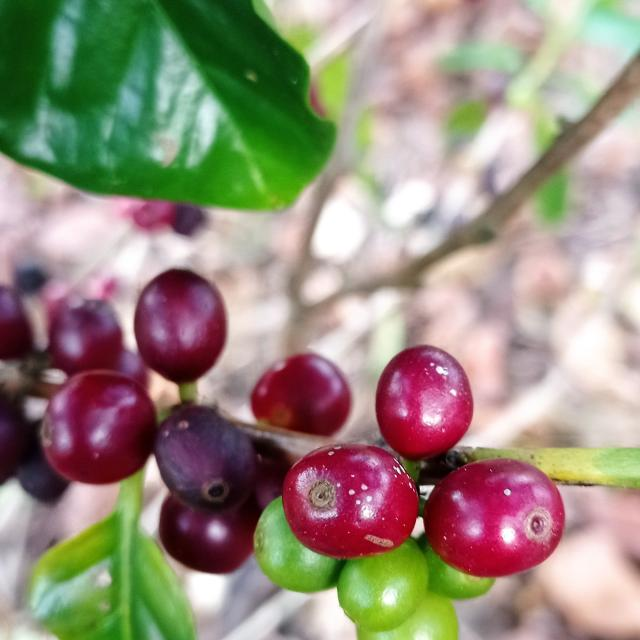green: (254, 497, 345, 594), (337, 539, 429, 633), (417, 535, 496, 601), (357, 593, 459, 640)
red: (425, 459, 565, 579), (282, 445, 418, 560), (41, 370, 155, 485), (376, 345, 474, 461), (154, 405, 257, 515), (134, 269, 227, 384), (251, 354, 351, 436), (159, 496, 260, 574), (48, 300, 122, 376)
